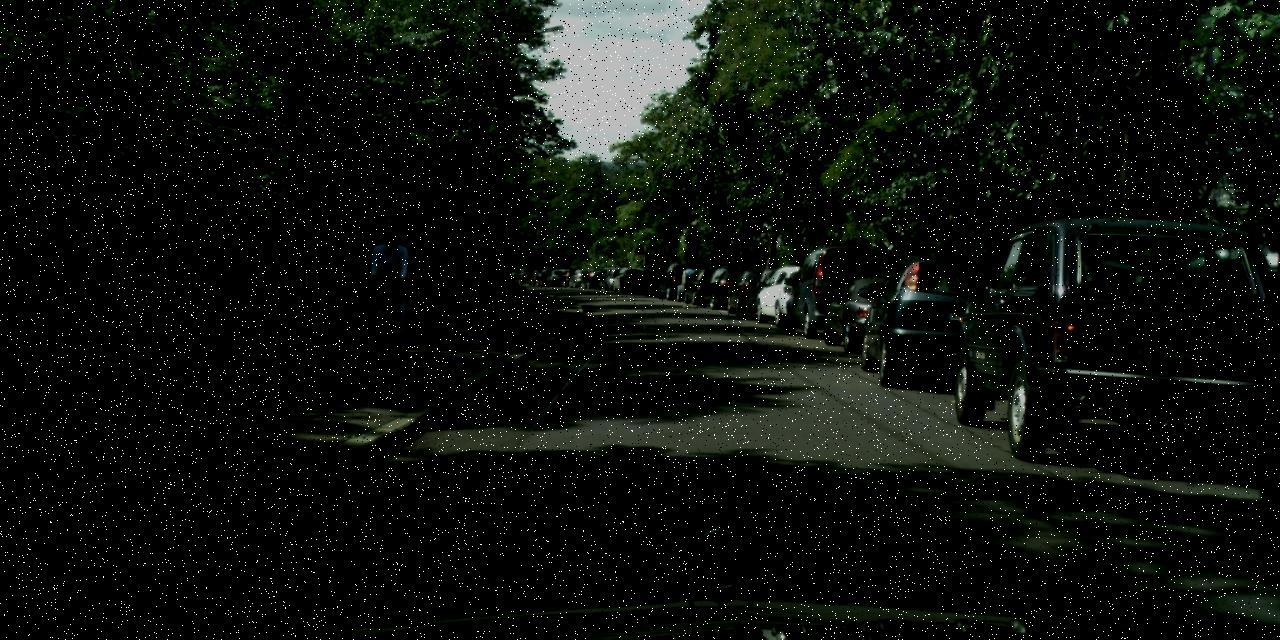ped: (365, 223, 416, 348), (541, 270, 547, 286), (523, 272, 528, 284)
